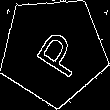P_NW: (23, 22, 84, 80)
